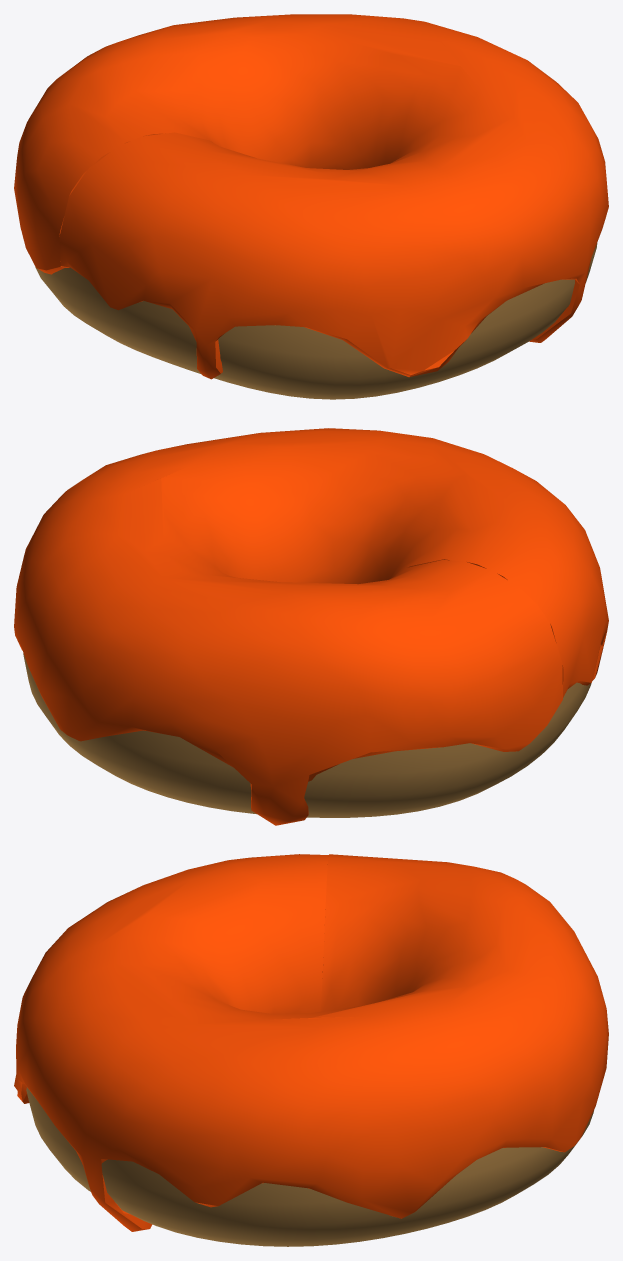
The model's file is donut.glb.
3 renders of one model, top to bottom at view 1: azimuth 30°, elevation 25°; view 2: azimuth 150°, elevation 25°; view 3: azimuth 270°, elevation 25°, orthographic. The views are drawn at different scales.
Visible parts, largest first — view 1: Icing_1, Donut_0; view 2: Icing_1, Donut_0; view 3: Icing_1, Donut_0.
Boxes of the visible parts, x1,y1,x2,y2 form: Icing_1: (14,14,608,379); Donut_0: (35,243,597,399); Icing_1: (14,428,608,825); Donut_0: (23,653,591,817); Icing_1: (14,854,608,1231); Donut_0: (26,1087,593,1246).
Size of the model in its own units: 4.87 by 2.05 by 4.87.
